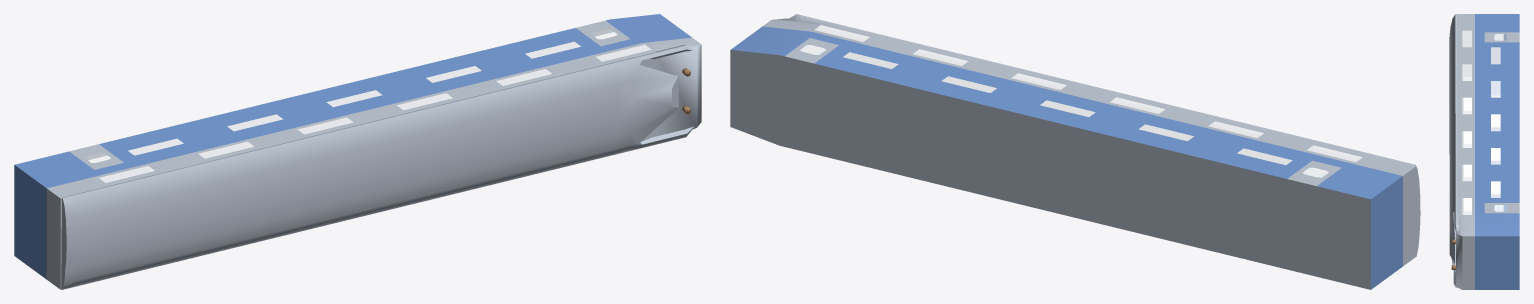
Rendered from asset5.glb.
3 renders of one model, left to right at view 1: azimuth 30°, elevation 25°; view 2: azimuth 150°, elevation 25°; view 3: azimuth 270°, elevation 25°, orthographic. The views are drawn at different scales.
Visible parts, largest first — view 1: Cylinder2_sep22, Cylinder2_sep19, Cylinder2_sep20; view 2: Cylinder2_sep19, Cylinder2_sep22, Cylinder2_sep20; view 3: Cylinder2_sep19, Cylinder2_sep22, Cylinder2_sep20.
Part boxes in pixels (x1,y1,x2,y2): Cylinder2_sep22: (61, 45, 693, 289); Cylinder2_sep19: (14, 14, 701, 289); Cylinder2_sep20: (88, 32, 651, 182); Cylinder2_sep19: (730, 18, 1416, 289); Cylinder2_sep22: (788, 14, 1420, 255); Cylinder2_sep20: (800, 25, 1362, 177); Cylinder2_sep19: (1456, 14, 1519, 289); Cylinder2_sep22: (1449, 14, 1463, 287); Cylinder2_sep20: (1462, 30, 1503, 214).
Size of what is drawn, in the model's own units: 1 by 0.1366 by 0.1369.
